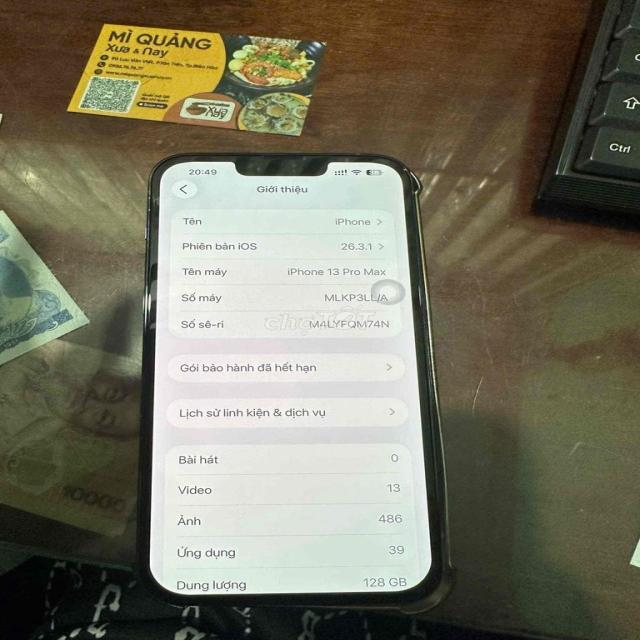gen_12_13: (136, 152, 458, 610)
